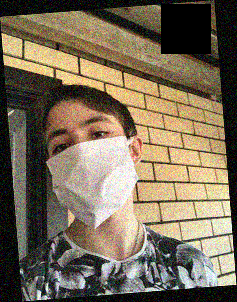with_mask: (46, 112, 139, 229)
